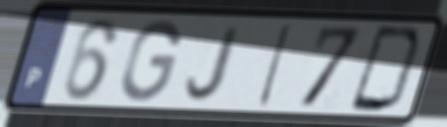6: (61, 15, 122, 103)
7: (300, 23, 368, 111)
D: (346, 22, 426, 115)
G: (117, 18, 184, 105)
I: (254, 20, 296, 109)
J: (183, 23, 245, 103)
